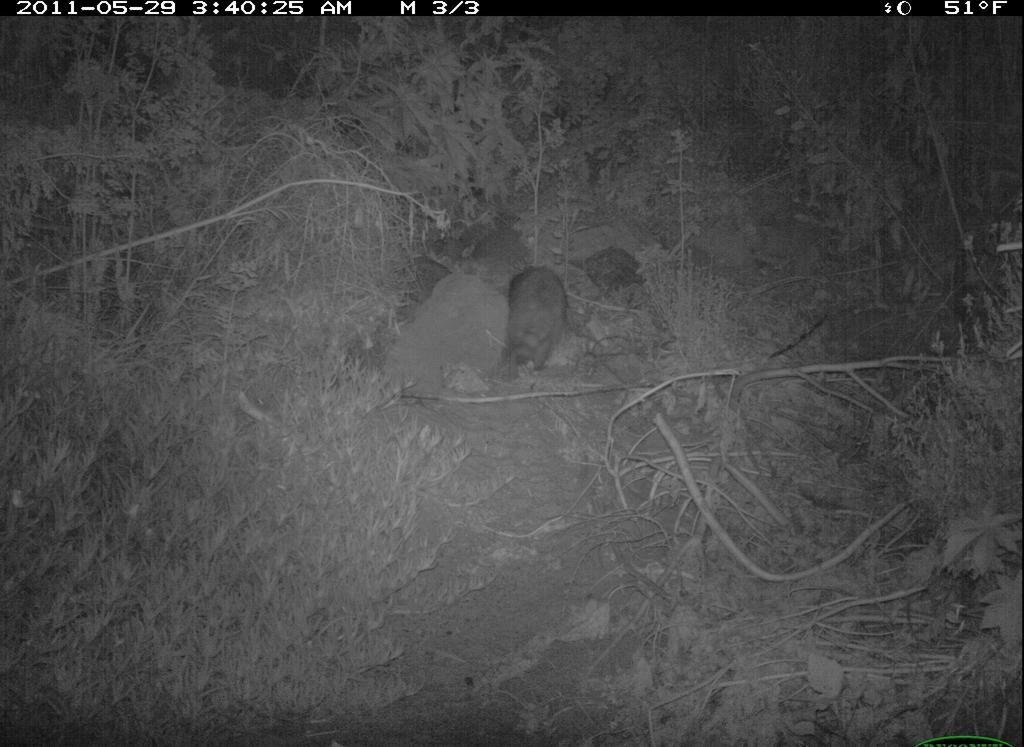raccoon: (496, 262, 579, 383)
